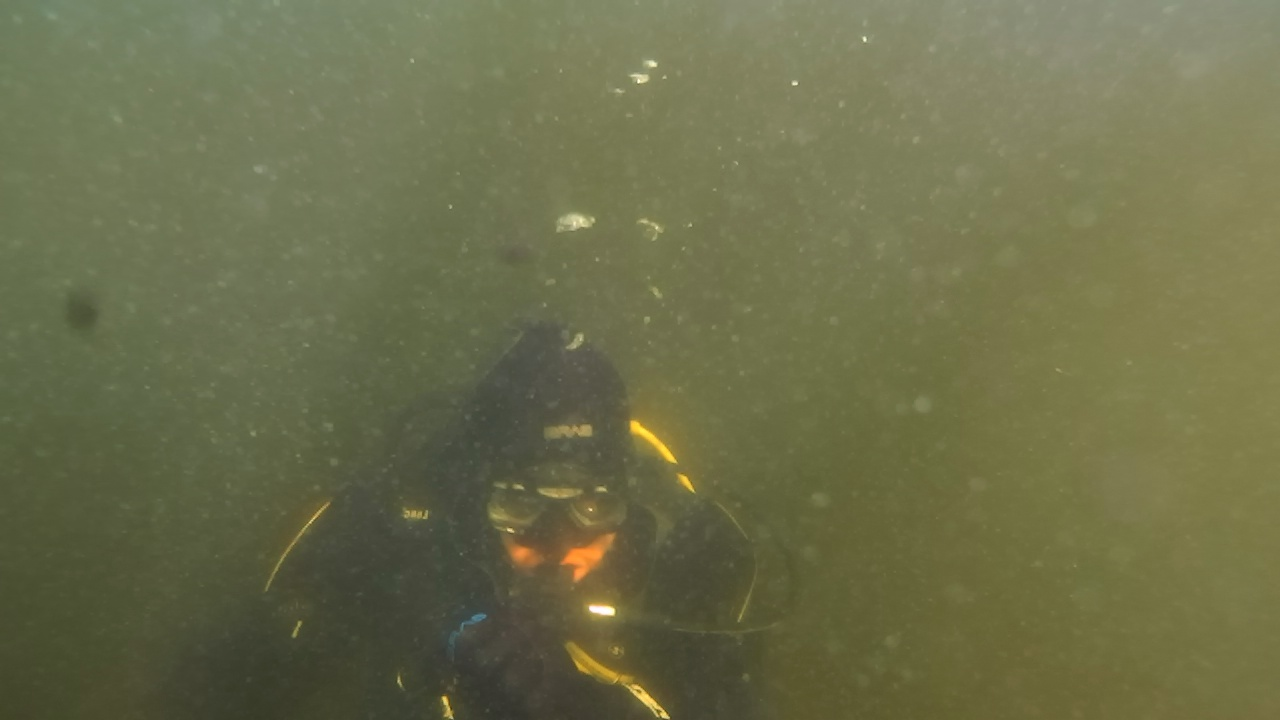Diver: (182, 312, 834, 708)
Head: (448, 312, 652, 606)
